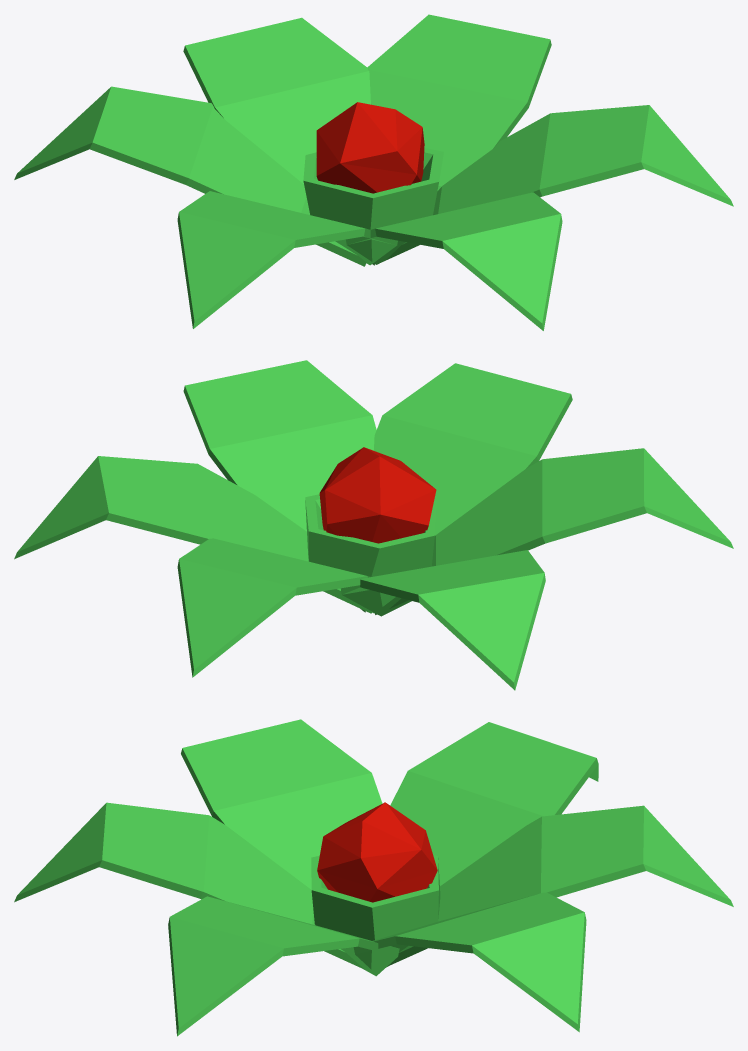
The model's file is plant_2.fbx.
The picture shows the model from 3 angles, top to bottom: view 1: azimuth 30°, elevation 25°; view 2: azimuth 150°, elevation 25°; view 3: azimuth 270°, elevation 25°; orthographic projection.
Parts seen in each view (by area): view 1: Icosphere; view 2: Icosphere; view 3: Icosphere.
Boxes of the visible parts, x1,y1,x2,y2 form: Icosphere: (14, 14, 733, 330); Icosphere: (14, 360, 733, 690); Icosphere: (14, 719, 733, 1036).
Bounding box in the file's own units: 196 × 57.18 × 226.
